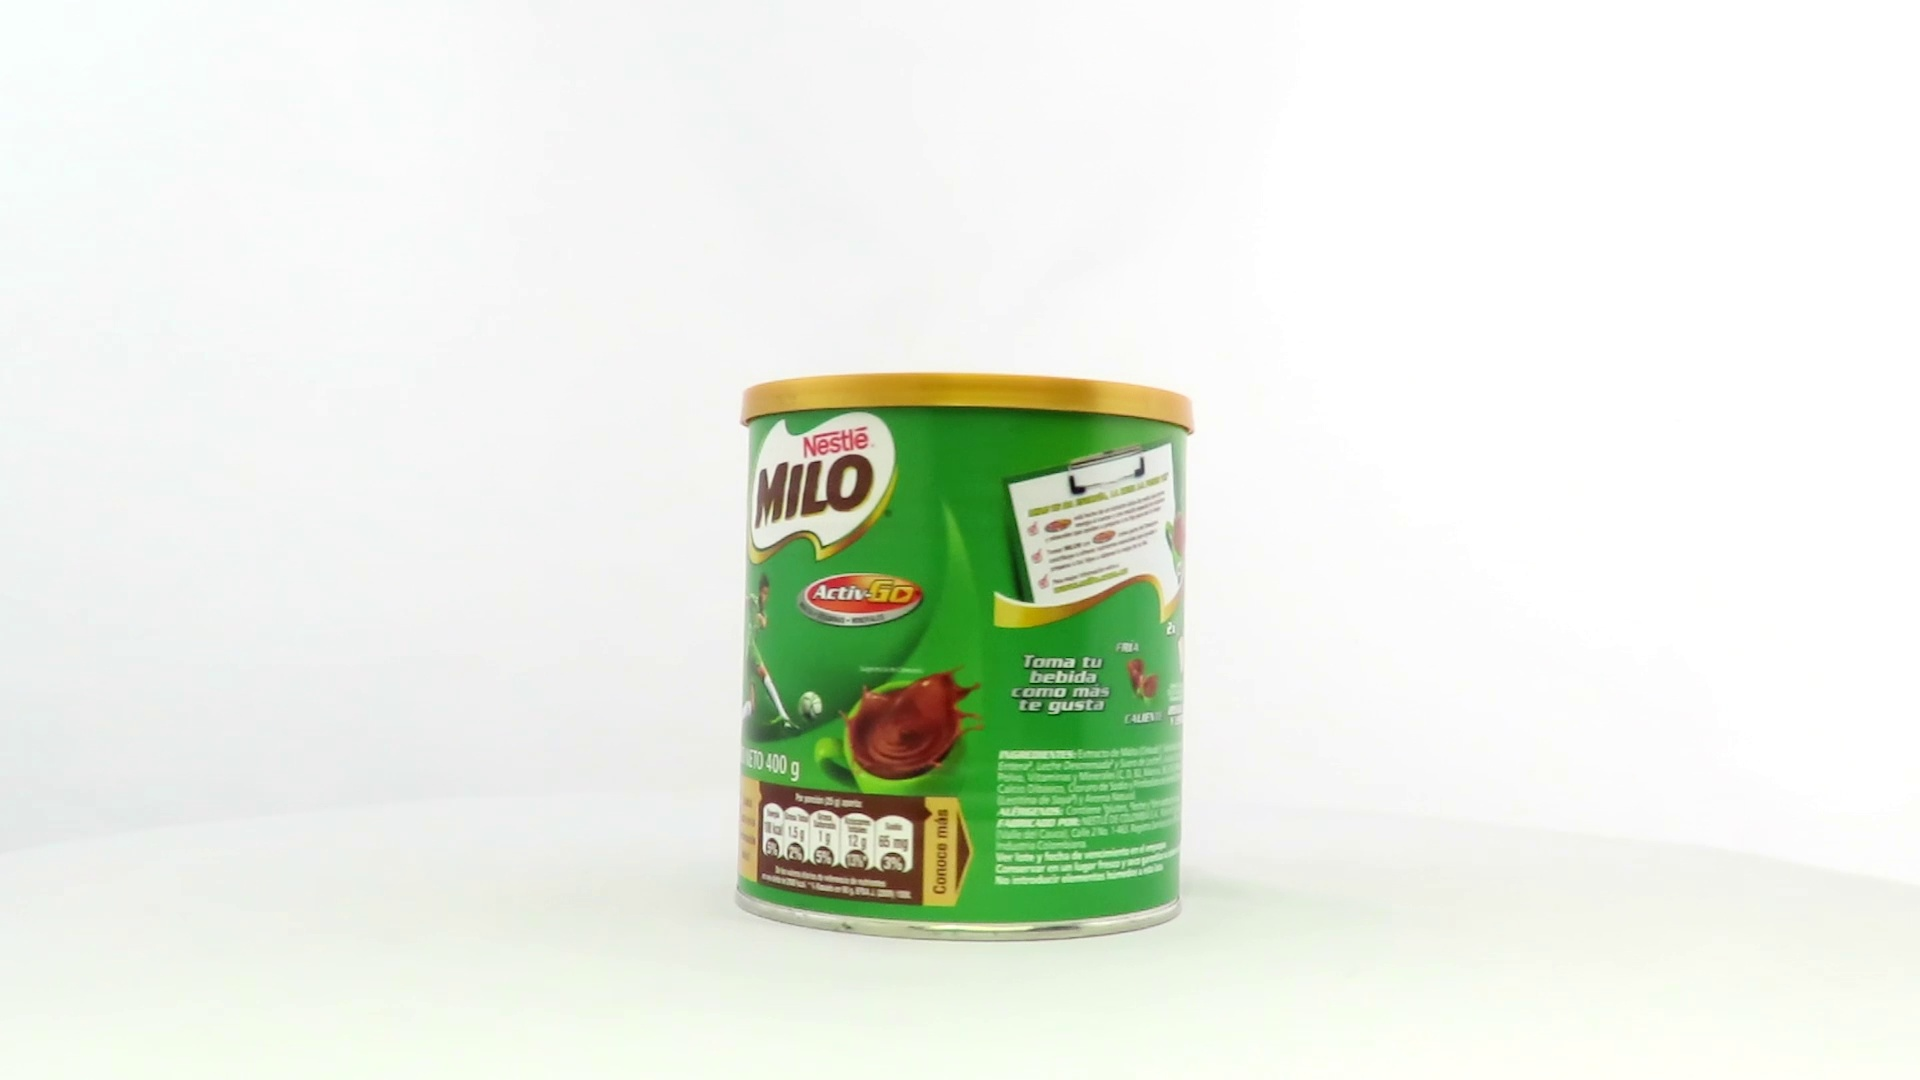COL0170203LAT40000: (729, 367, 1201, 948)
